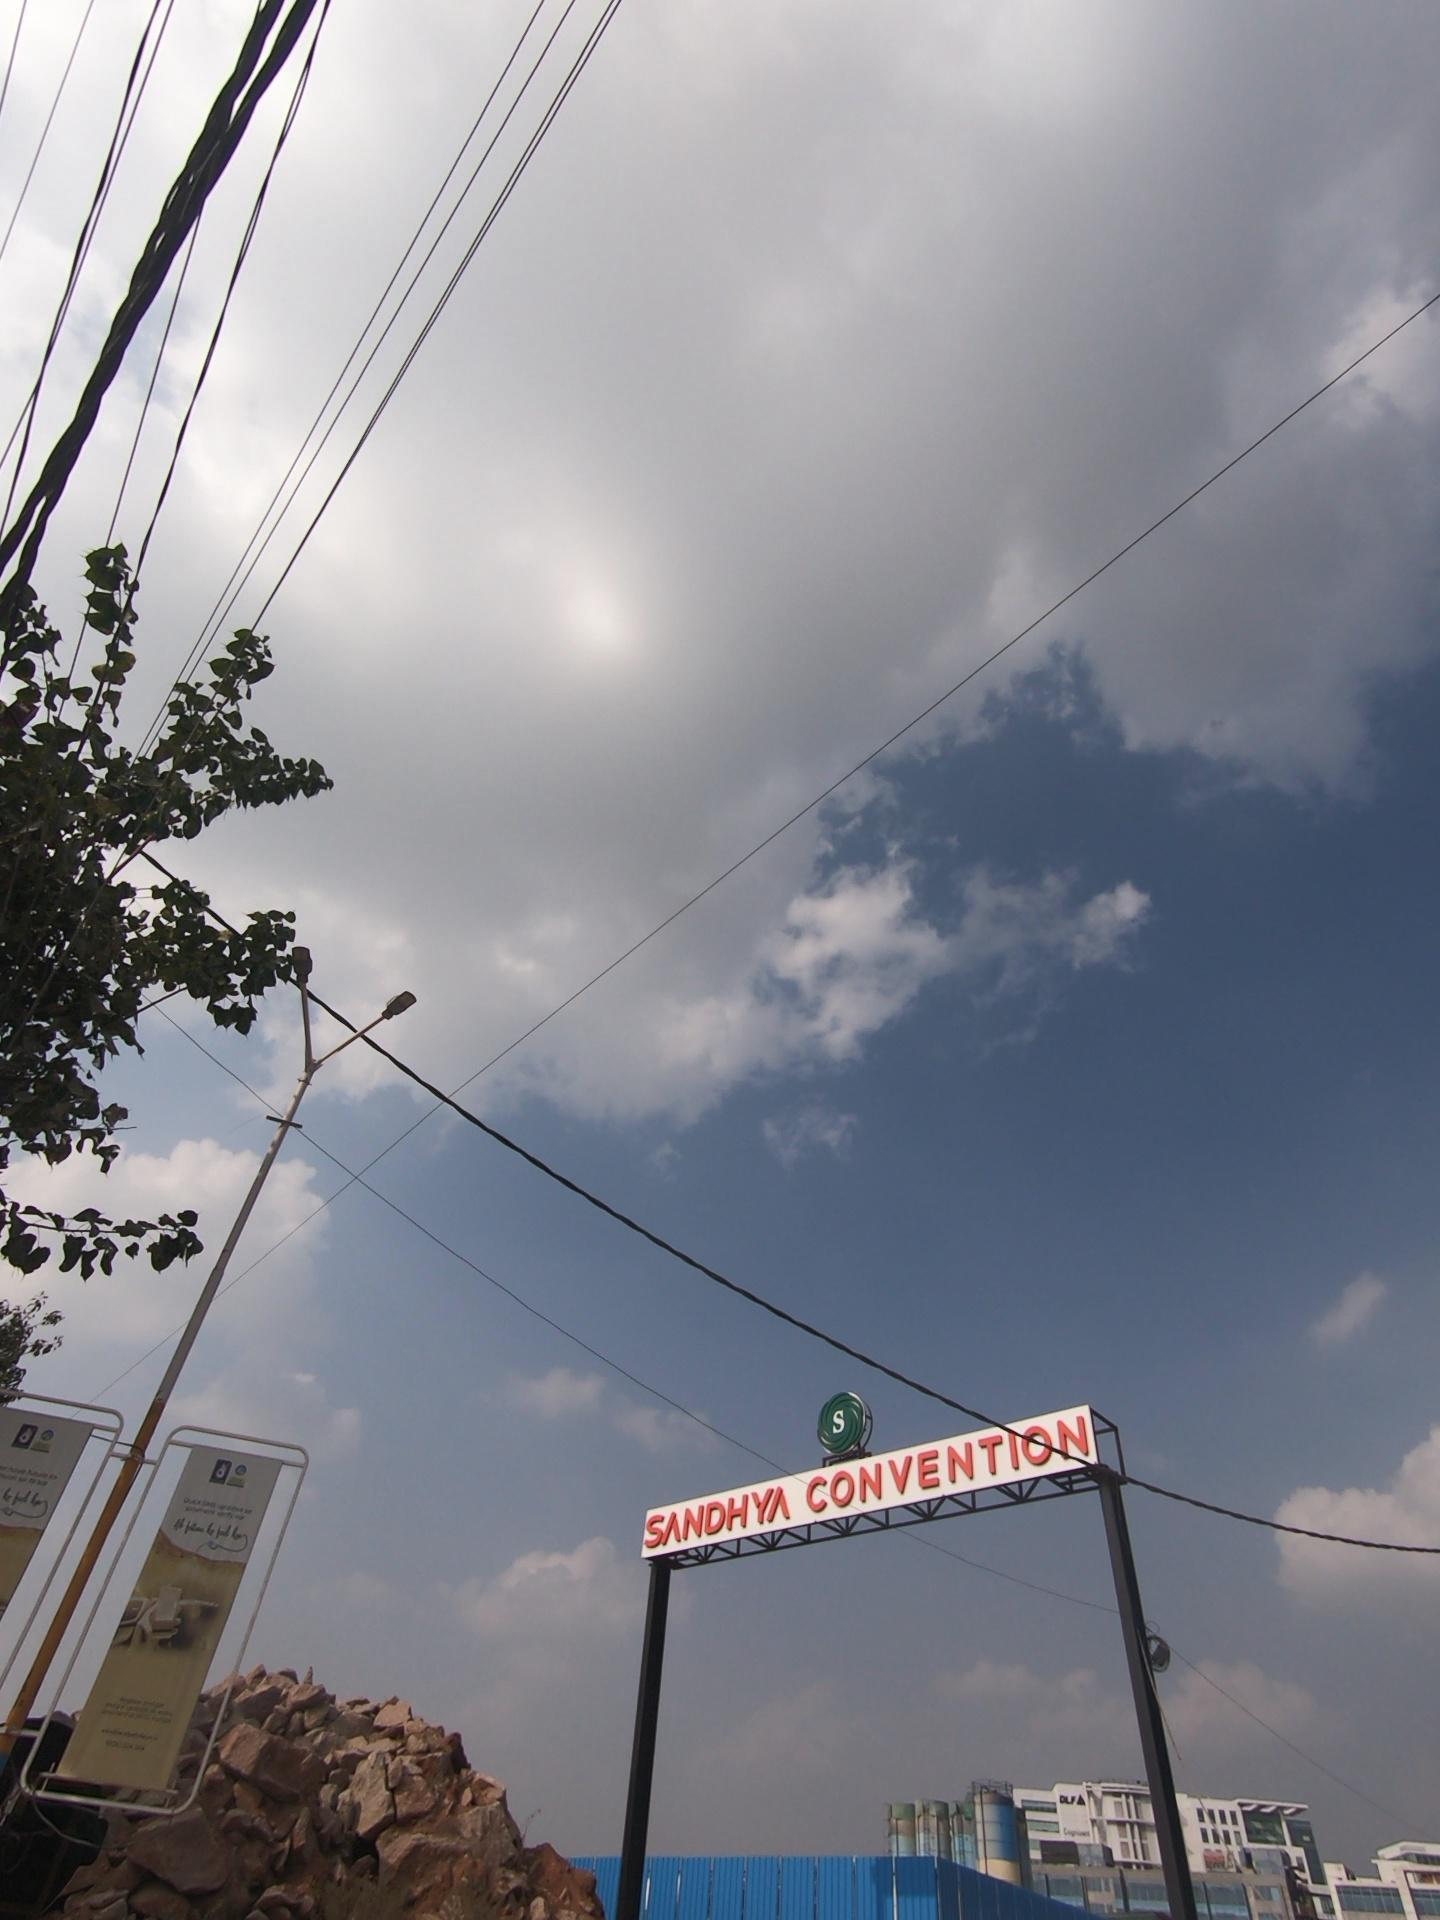off: (241, 901, 508, 1092)
